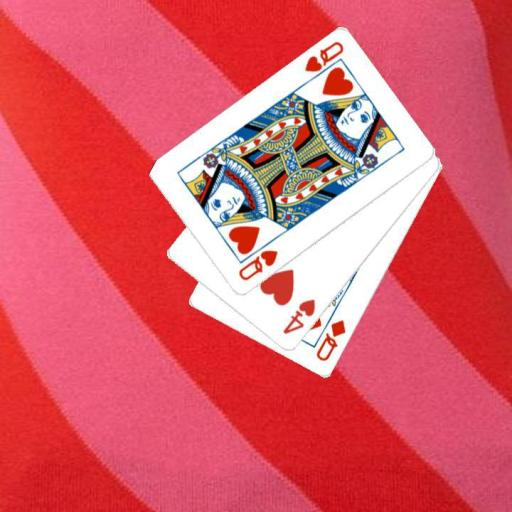4H: (280, 296, 317, 336)
QD: (313, 317, 348, 364)
QH: (301, 38, 346, 86), (235, 247, 280, 283)
